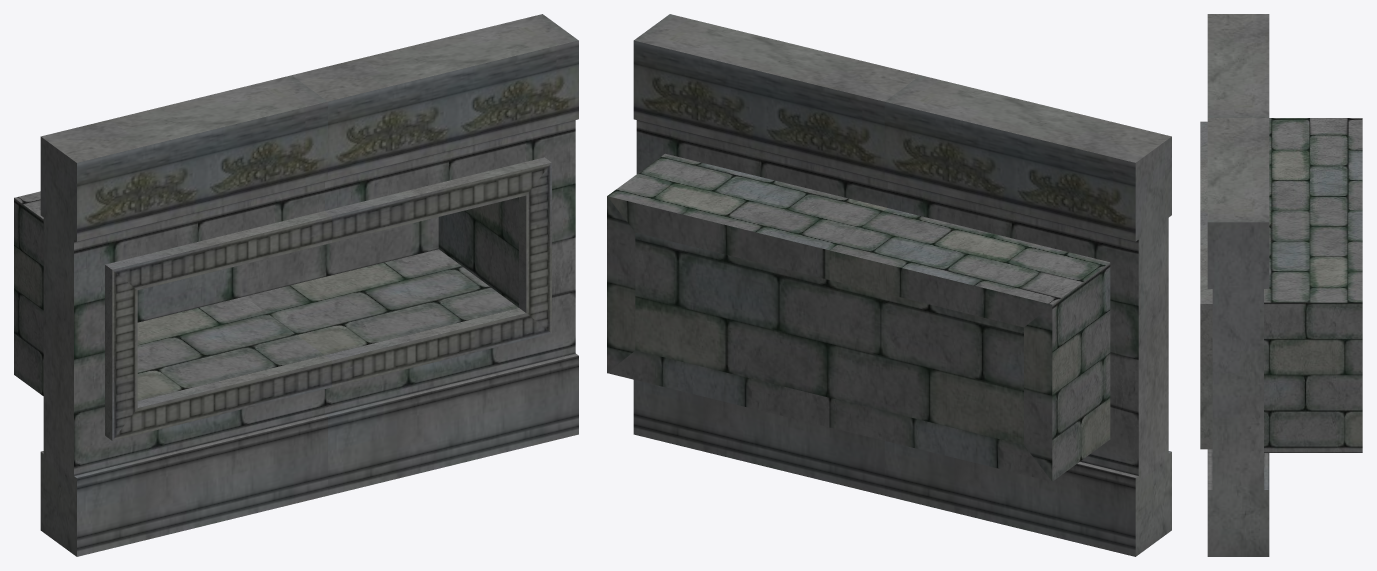
Rendered from wall_large_02.glb.
3 views of the same model, side by side, from view 1: azimuth 30°, elevation 25°; view 2: azimuth 150°, elevation 25°; view 3: azimuth 270°, elevation 25° (orthographic). The views are drawn at different scales.
Visible parts, largest first — view 1: wall_large_02; view 2: wall_large_02; view 3: wall_large_02.
Part boxes in pixels (x1,y1,x2,y2): wall_large_02: (14,14,578,556); wall_large_02: (607,14,1171,556); wall_large_02: (1200,14,1362,556).
Bounding box in the file's own units: 4 × 3 × 1.32.
Materials: 1 (1 with a texture image).
